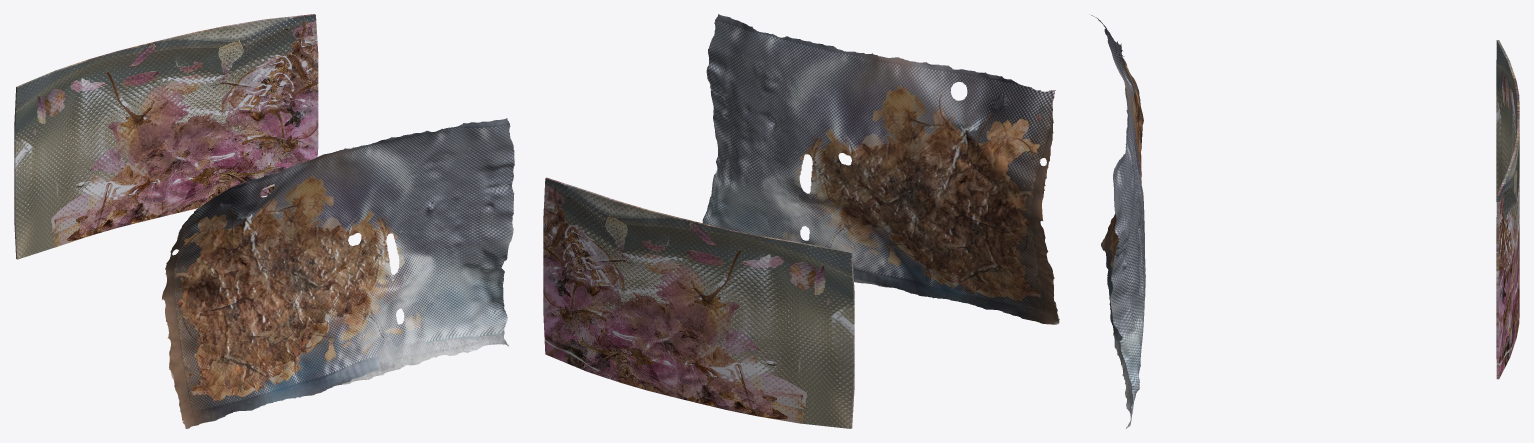
The model's file is wiese_i.glb.
3 views of the same model, side by side, from view 1: azimuth 30°, elevation 25°; view 2: azimuth 150°, elevation 25°; view 3: azimuth 270°, elevation 25° (orthographic). The views are drawn at different scales.
Visible parts, largest first — view 1: vt_wiese_low_02.002, videotarget; view 2: vt_wiese_low_02.002, videotarget; view 3: vt_wiese_low_02.002, videotarget.
Boxes of the visible parts, left/top/right/bottom form: vt_wiese_low_02.002: left=162, top=118, right=514, bottom=428; videotarget: left=14, top=14, right=318, bottom=259; vt_wiese_low_02.002: left=702, top=14, right=1059, bottom=324; videotarget: left=543, top=177, right=854, bottom=428; vt_wiese_low_02.002: left=1091, top=15, right=1145, bottom=428; videotarget: left=1496, top=40, right=1519, bottom=379.
Bounding box in the file's own units: 2.99 × 1.99 × 3.05.
2 materials, 2 textured.
